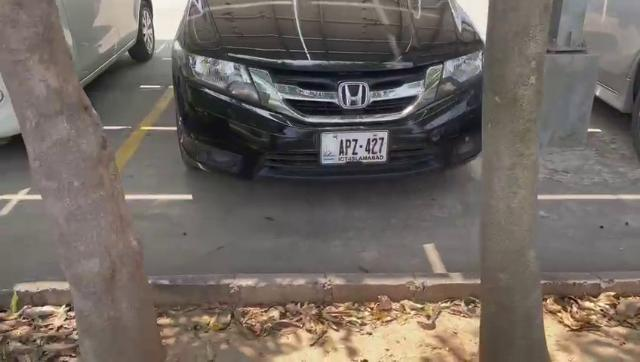plate: (320, 129, 388, 163)
